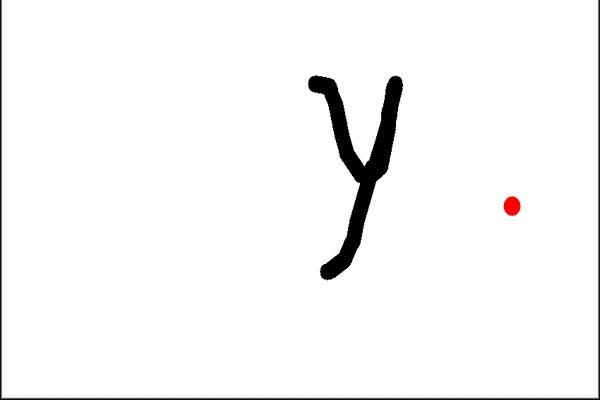Y: (294, 62, 419, 294)
